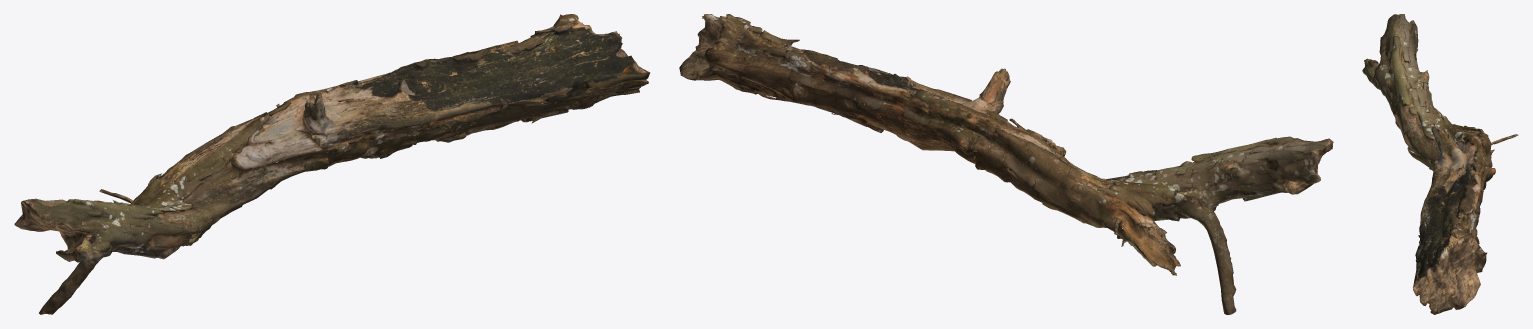
The model's file is dead_tree_trunk_02_1k.gltf.
3 views of the same model, side by side, from view 1: azimuth 30°, elevation 25°; view 2: azimuth 150°, elevation 25°; view 3: azimuth 270°, elevation 25° (orthographic). The views are drawn at different scales.
Parts seen in each view (by area): view 1: dead_tree_trunk_02; view 2: dead_tree_trunk_02; view 3: dead_tree_trunk_02.
Part boxes in pixels (x1=…): dead_tree_trunk_02: x1=14, y1=14, x2=650, y2=314; dead_tree_trunk_02: x1=679, y1=14, x2=1333, y2=314; dead_tree_trunk_02: x1=1362, y1=14, x2=1518, y2=314.
Size of the model in its own units: 4.05 by 1.06 by 1.06.
Materials: 1 (1 with a texture image).
